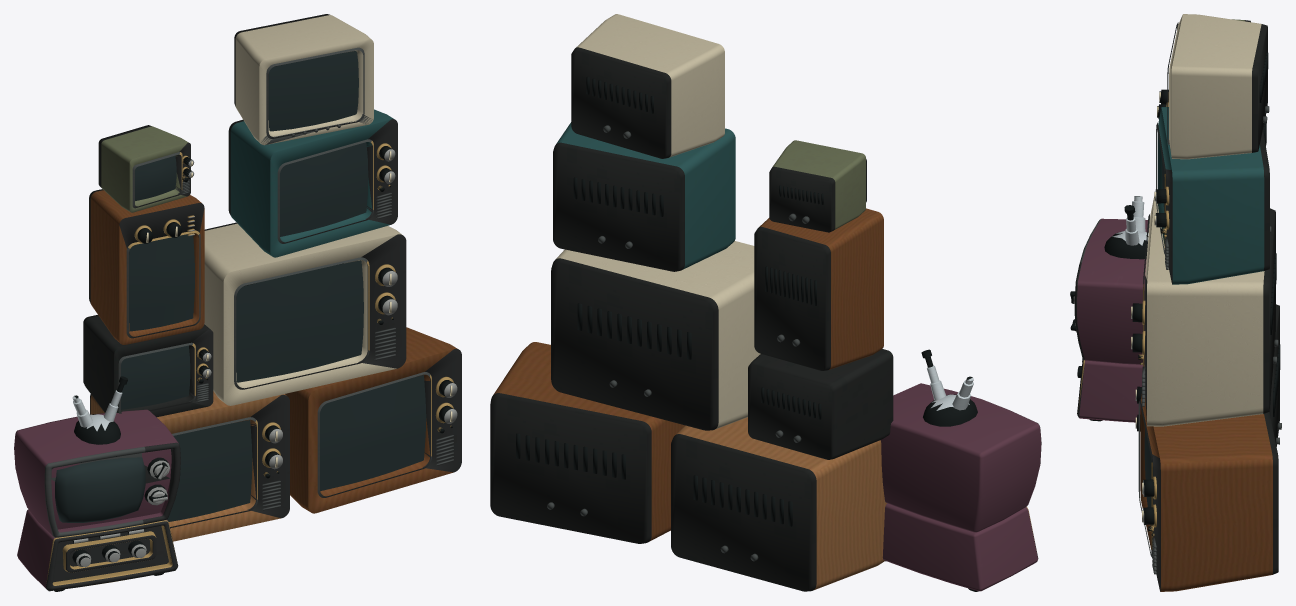
File: tv-BIHPSDVB.glb
3 views of the same model, side by side, from view 1: azimuth 30°, elevation 25°; view 2: azimuth 150°, elevation 25°; view 3: azimuth 270°, elevation 25° (orthographic). The views are drawn at different scales.
Parts seen in each view (by area): view 1: TV_03, TV_02, TV_05, TV, TV_08, TV_07, TV_04, Dai, TV_09, TV_07_screen_07_0, TV_06, TV_04_screen_04_0.001 (+4 smaller); view 2: TV_03, TV_04, TV_02, TV_05, TV_08, TV_07, TV, TV_06, Dai, TV_09, antenna; view 3: TV_02, TV_03, TV_05, TV_08, TV, Dai, antenna, TV_04.
Boxes of the visible parts, x1=… form: TV_03: x1=204, y1=222, x2=406, y2=405; TV_02: x1=285, y1=327, x2=461, y2=513; TV_05: x1=228, y1=109, x2=397, y2=257; TV: x1=14, y1=409, x2=180, y2=537; TV_08: x1=234, y1=14, x2=373, y2=145; TV_07: x1=89, y1=189, x2=204, y2=344; TV_04: x1=90, y1=391, x2=289, y2=541; Dai: x1=17, y1=509, x2=178, y2=591; TV_09: x1=98, y1=125, x2=194, y2=212; TV_07_screen_07_0: x1=167, y1=420, x2=252, y2=521; TV_06: x1=83, y1=315, x2=213, y2=417; TV_04_screen_04_0.001: x1=129, y1=233, x2=194, y2=331; TV_03: x1=551, y1=241, x2=760, y2=430; TV_04: x1=671, y1=417, x2=886, y2=591; TV_02: x1=490, y1=342, x2=684, y2=543; TV_05: x1=553, y1=122, x2=735, y2=271; TV_08: x1=571, y1=14, x2=724, y2=158; TV_07: x1=754, y1=208, x2=883, y2=370; TV: x1=880, y1=383, x2=1041, y2=532; TV_06: x1=748, y1=349, x2=893, y2=459; Dai: x1=882, y1=503, x2=1038, y2=591; TV_09: x1=769, y1=140, x2=866, y2=232; antenna: x1=921, y1=349, x2=977, y2=426; TV_02: x1=1138, y1=394, x2=1278, y2=591; TV_03: x1=1131, y1=197, x2=1278, y2=426; TV_05: x1=1154, y1=107, x2=1271, y2=284; TV_08: x1=1167, y1=14, x2=1269, y2=159; TV: x1=1074, y1=218, x2=1148, y2=364; Dai: x1=1077, y1=359, x2=1144, y2=422; antenna: x1=1104, y1=196, x2=1148, y2=259; TV_04: x1=1135, y1=304, x2=1281, y2=446.
Bounding box in the file's own units: 0.2604 × 0.251 × 0.0998.
11 materials, 2 textured.
